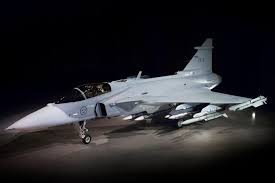fighter: (6, 35, 269, 145)
